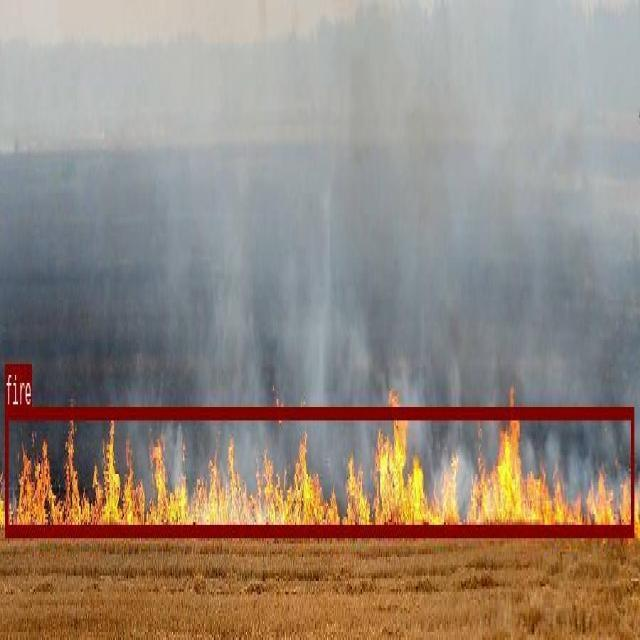fire: (5, 406, 634, 533)
